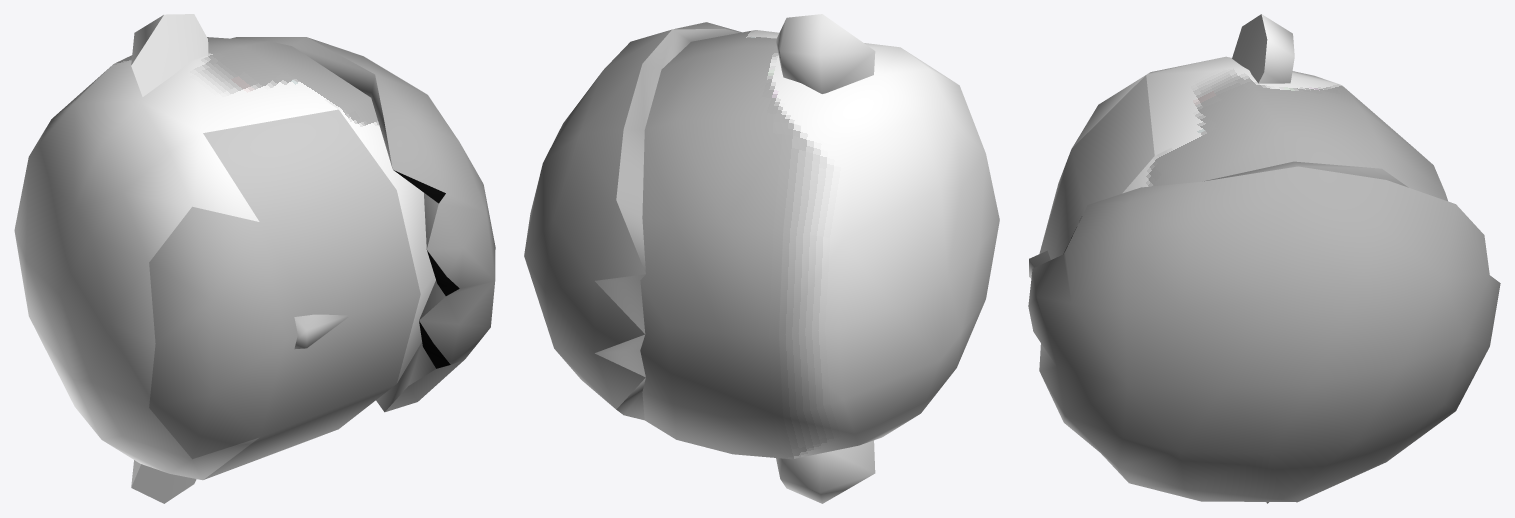
Rendered from boy13a.dae.
3 renders of one model, left to right at view 1: azimuth 30°, elevation 25°; view 2: azimuth 150°, elevation 25°; view 3: azimuth 270°, elevation 25°, orthographic.
Visible parts, largest first — view 1: vsn_mesh_0_, vsn_mesh_1_, vsn_mesh_2_; view 2: vsn_mesh_0_; view 3: vsn_mesh_0_, vsn_mesh_1_.
Boxes of the visible parts, x1,y1,x2,y2 form: vsn_mesh_0_: [14, 14, 495, 503]; vsn_mesh_1_: [203, 109, 420, 479]; vsn_mesh_2_: [149, 206, 285, 459]; vsn_mesh_0_: [524, 14, 999, 503]; vsn_mesh_0_: [1028, 14, 1500, 503]; vsn_mesh_1_: [1029, 75, 1154, 277].
Bounding box in the file's own units: 22.21 × 26.71 × 23.64.
